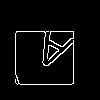A: (25, 25, 76, 81)
